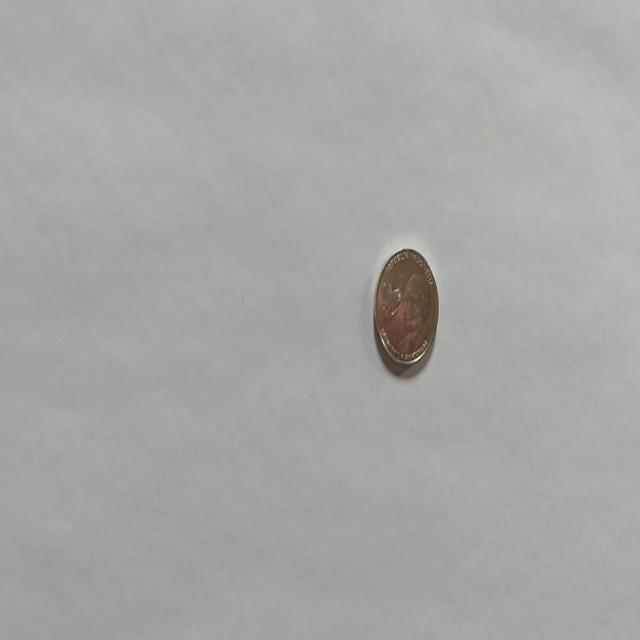lima ratus rupiah: (372, 246, 440, 370)
